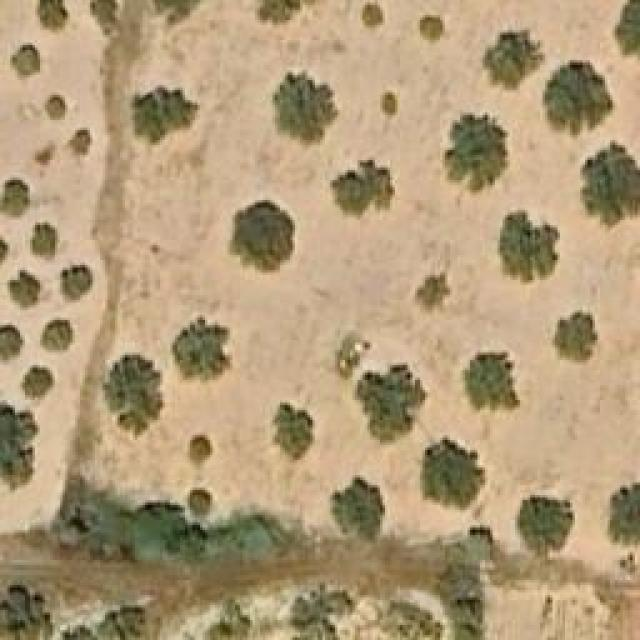Tree: (270, 70, 340, 150), (355, 365, 425, 445), (445, 113, 508, 196), (545, 63, 613, 136), (103, 355, 166, 433), (580, 143, 640, 223), (477, 30, 545, 93), (133, 85, 206, 143), (423, 438, 483, 508), (235, 200, 295, 268), (500, 210, 558, 280), (515, 497, 573, 565), (170, 315, 230, 380), (333, 470, 386, 543), (284, 587, 357, 640), (462, 353, 520, 413), (333, 158, 393, 213), (0, 580, 55, 640), (0, 403, 37, 492), (273, 392, 313, 460), (553, 313, 598, 366), (198, 598, 251, 640), (100, 600, 153, 639), (610, 480, 640, 548), (8, 268, 53, 311), (415, 272, 451, 318), (615, 0, 640, 62), (55, 265, 95, 303), (35, 0, 78, 35), (252, 0, 319, 22), (10, 43, 43, 86), (18, 365, 54, 402), (152, 0, 200, 25), (0, 180, 30, 218), (63, 127, 93, 165), (30, 223, 58, 263), (40, 320, 73, 353), (185, 488, 213, 523), (90, 0, 117, 32), (0, 325, 22, 362), (380, 93, 398, 133), (363, 3, 386, 33), (190, 435, 213, 463), (0, 233, 18, 268), (48, 93, 68, 123), (420, 15, 443, 40), (35, 140, 55, 168)
